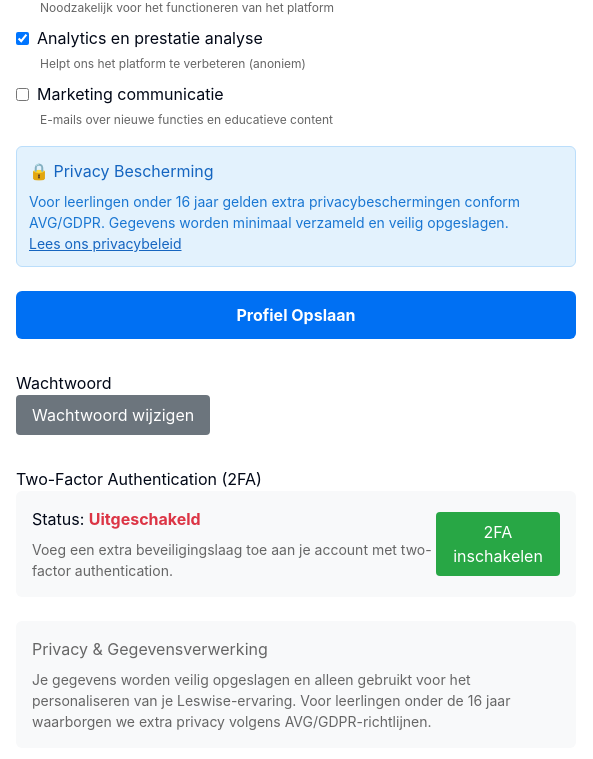
Test: UserProfile › valideert wachtwoord sterkte
(page scrolled)
Click the button "Wachtwoord wijzigen".
click(113, 415)  # box [16, 395, 210, 435]
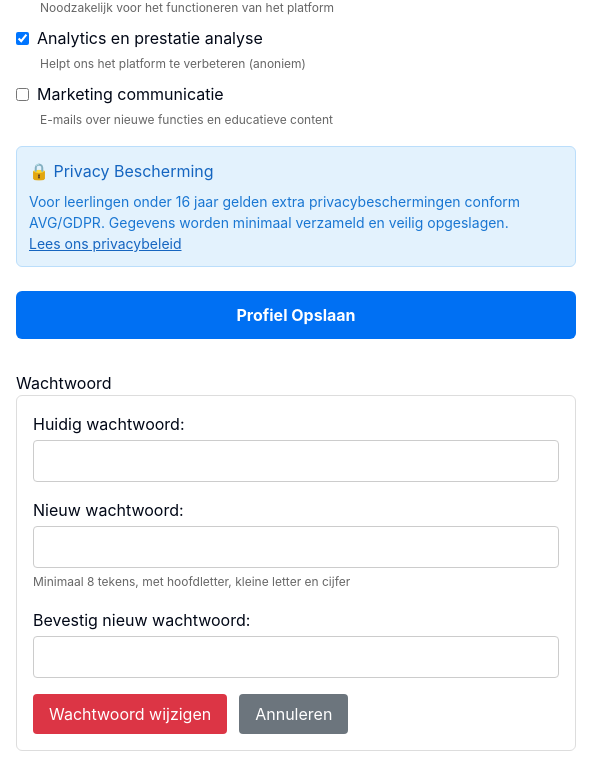
// Zwak wachtwoord testen
Type "current123" into the password field labelled "Huidig wachtwoord:".
click(296, 461); type("current123")  # box [33, 440, 559, 482]
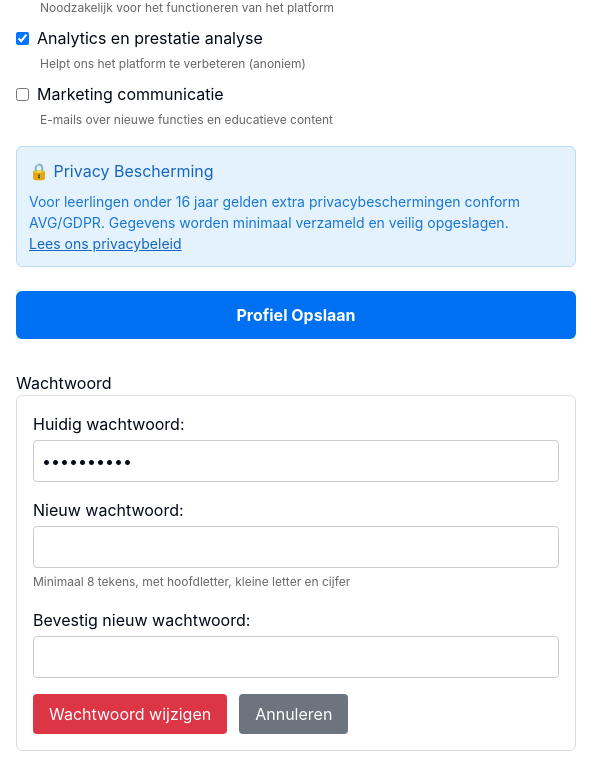
Type "weak" into the password field labelled "Nieuw wachtwoord:".
click(296, 547); type("weak")  # box [33, 526, 559, 568]
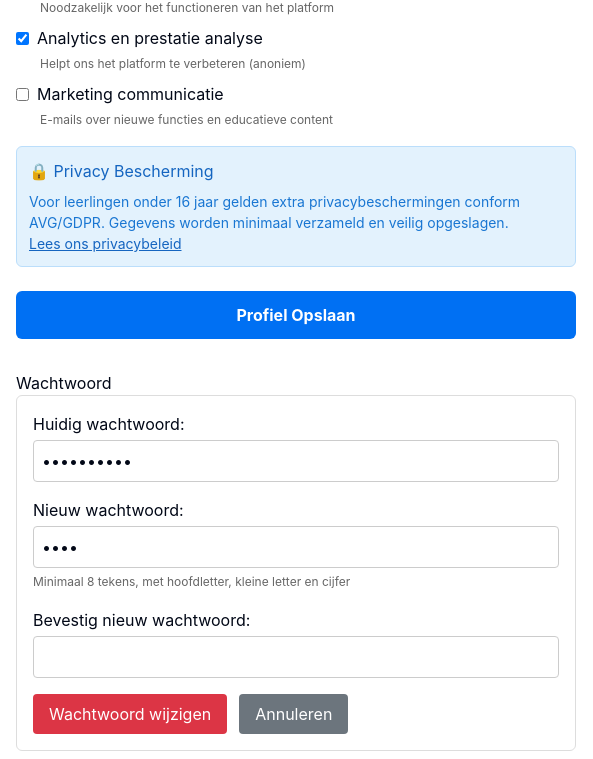
Type "weak" into the password field labelled "Bevestig nieuw wachtwoord:".
click(296, 657); type("weak")  # box [33, 636, 559, 678]
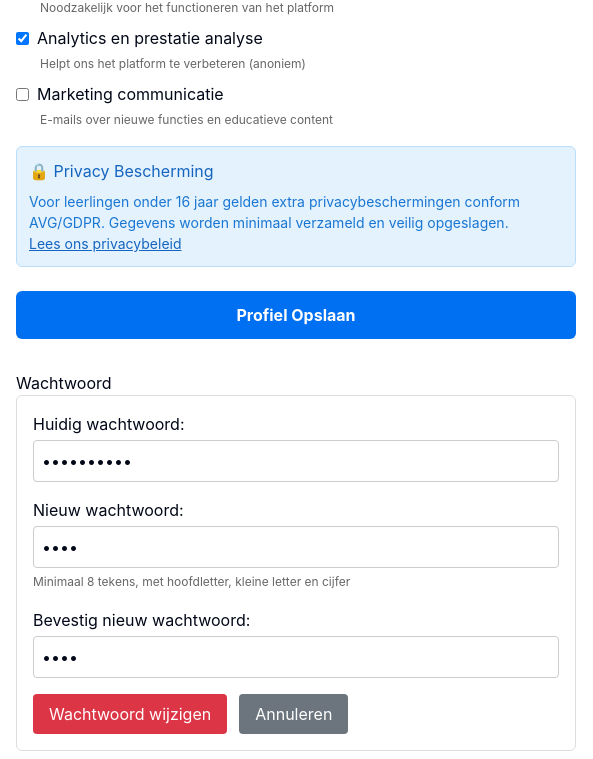
Click the button "Wachtwoord wijzigen".
click(130, 714)  # box [33, 694, 227, 734]
(page scrolled)
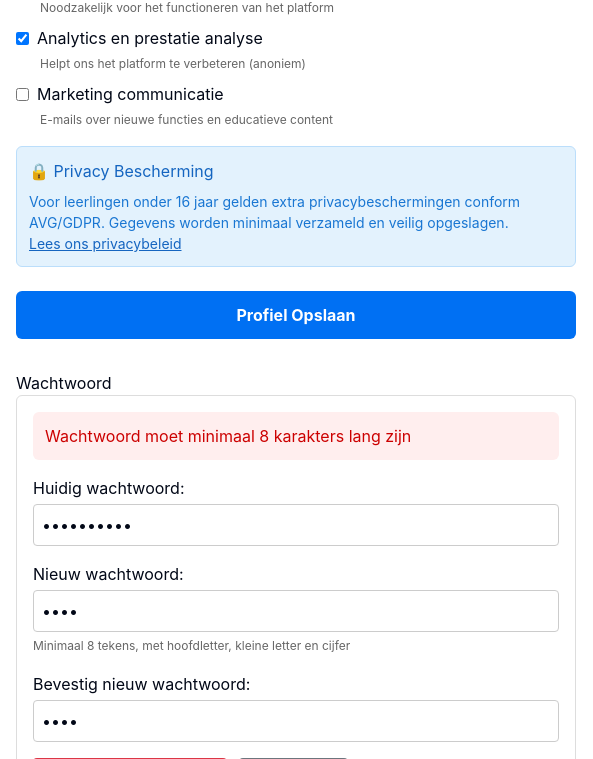
Result: the text "Wachtwoord moet minimaal 8 karakters lang zijn" is shown at [33, 412, 559, 460]
